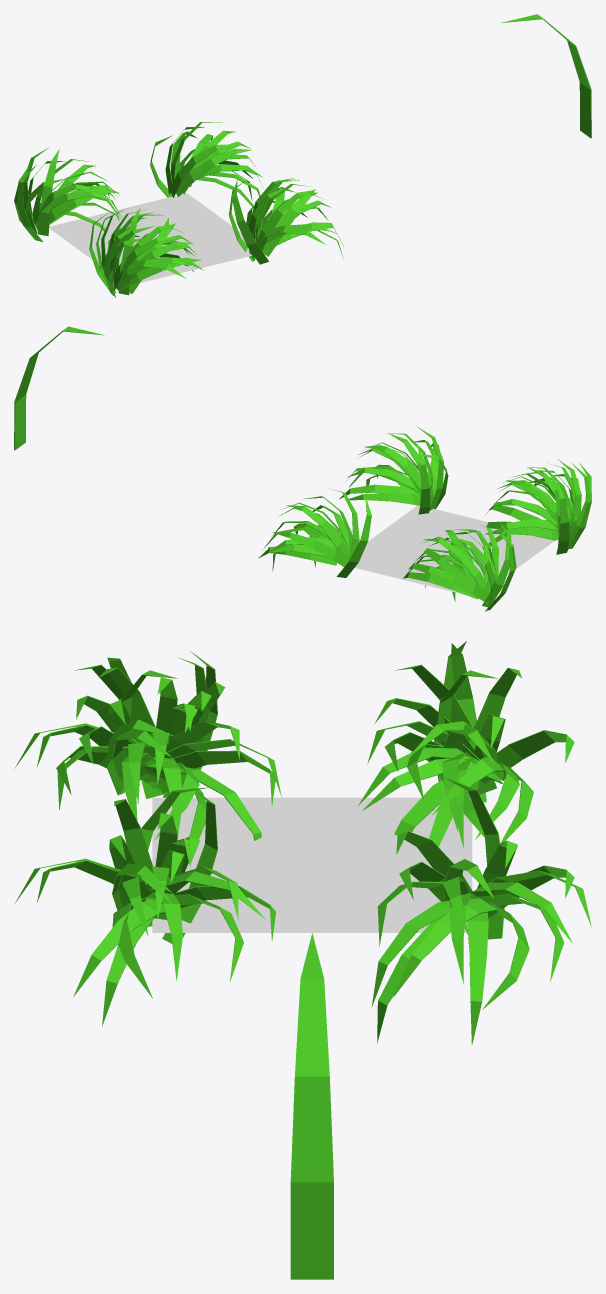
The model's file is Tenticle.fbx.
The picture shows the model from 3 angles, top to bottom: view 1: azimuth 30°, elevation 25°; view 2: azimuth 150°, elevation 25°; view 3: azimuth 270°, elevation 25°; orthographic projection. The views are drawn at different scales.
Visible parts, largest first — view 1: Plane, Cube, Plane|Cube|Dupli|31.0.0.0.0.0.0.0.0.0, Plane|Cube|Dupli|15.0.0.0.0.0.0.0.0.0, Plane|Cube|Dupli|88.0.0.0.0.0.0.0.0.0, Plane|Cube|Dupli|71.0.0.0.0.0.0.0.0.0, Plane|Cube|Dupli|17.0.0.0.0.0.0.0.0.0, Plane|Cube|Dupli|32.0.0.0.0.0.0.0.0.0, Plane|Cube|Dupli|24.0.0.0.0.0.0.0.0.0, Plane|Cube|Dupli|53.0.0.0.0.0.0.0.0.0, Plane|Cube|Dupli|7.0.0.0.0.0.0.0.0.0, Plane|Cube|Dupli|61.0.0.0.0.0.0.0.0.0 (+4 smaller); view 2: Plane, Cube, Plane|Cube|Dupli|82.0.0.0.0.0.0.0.0.0, Plane|Cube|Dupli|18.0.0.0.0.0.0.0.0.0, Plane|Cube|Dupli|5.0.0.0.0.0.0.0.0.0, Plane|Cube|Dupli|89.0.0.0.0.0.0.0.0.0, Plane|Cube|Dupli|90.0.0.0.0.0.0.0.0.0, Plane|Cube|Dupli|21.0.0.0.0.0.0.0.0.0, Plane|Cube|Dupli|74.0.0.0.0.0.0.0.0.0, Plane|Cube|Dupli|65.0.0.0.0.0.0.0.0.0, Plane|Cube|Dupli|26.0.0.0.0.0.0.0.0.0, Plane|Cube|Dupli|42.0.0.0.0.0.0.0.0.0 (+13 smaller); view 3: Plane, Cube, Plane|Cube|Dupli|56.0.0.0.0.0.0.0.0.0, Plane|Cube|Dupli|57.0.0.0.0.0.0.0.0.0, Plane|Cube|Dupli|14.0.0.0.0.0.0.0.0.0, Plane|Cube|Dupli|82.0.0.0.0.0.0.0.0.0, Plane|Cube|Dupli|78.0.0.0.0.0.0.0.0.0, Plane|Cube|Dupli|5.0.0.0.0.0.0.0.0.0, Plane|Cube|Dupli|26.0.0.0.0.0.0.0.0.0, Plane|Cube|Dupli|52.0.0.0.0.0.0.0.0.0, Plane|Cube|Dupli|25.0.0.0.0.0.0.0.0.0, Plane|Cube|Dupli|70.0.0.0.0.0.0.0.0.0 (+27 smaller).
Boxes of the visible parts, x1=… form: Plane: x1=49, y1=193, x2=251, y2=282; Cube: x1=500, y1=14, x2=591, y2=138; Plane|Cube|Dupli|31.0.0.0.0.0.0.0.0.0: x1=232, y1=180, x2=269, y2=264; Plane|Cube|Dupli|15.0.0.0.0.0.0.0.0.0: x1=176, y1=148, x2=251, y2=196; Plane|Cube|Dupli|88.0.0.0.0.0.0.0.0.0: x1=38, y1=149, x2=59, y2=236; Plane|Cube|Dupli|71.0.0.0.0.0.0.0.0.0: x1=170, y1=144, x2=236, y2=197; Plane|Cube|Dupli|17.0.0.0.0.0.0.0.0.0: x1=262, y1=189, x2=315, y2=256; Plane|Cube|Dupli|32.0.0.0.0.0.0.0.0.0: x1=256, y1=189, x2=315, y2=250; Plane|Cube|Dupli|24.0.0.0.0.0.0.0.0.0: x1=118, y1=208, x2=139, y2=295; Plane|Cube|Dupli|53.0.0.0.0.0.0.0.0.0: x1=35, y1=190, x2=116, y2=230; Plane|Cube|Dupli|7.0.0.0.0.0.0.0.0.0: x1=113, y1=237, x2=177, y2=290; Plane|Cube|Dupli|61.0.0.0.0.0.0.0.0.0: x1=17, y1=163, x2=42, y2=241; Plane: x1=338, y1=505, x2=554, y2=594; Cube: x1=14, y1=326, x2=104, y2=450; Plane|Cube|Dupli|82.0.0.0.0.0.0.0.0.0: x1=411, y1=566, x2=488, y2=603; Plane|Cube|Dupli|18.0.0.0.0.0.0.0.0.0: x1=272, y1=532, x2=349, y2=566; Plane|Cube|Dupli|5.0.0.0.0.0.0.0.0.0: x1=337, y1=496, x2=371, y2=577; Plane|Cube|Dupli|89.0.0.0.0.0.0.0.0.0: x1=345, y1=492, x2=420, y2=505; Plane|Cube|Dupli|90.0.0.0.0.0.0.0.0.0: x1=556, y1=478, x2=569, y2=554; Plane|Cube|Dupli|21.0.0.0.0.0.0.0.0.0: x1=285, y1=505, x2=349, y2=557; Plane|Cube|Dupli|74.0.0.0.0.0.0.0.0.0: x1=423, y1=538, x2=486, y2=589; Plane|Cube|Dupli|65.0.0.0.0.0.0.0.0.0: x1=482, y1=522, x2=511, y2=607; Plane|Cube|Dupli|26.0.0.0.0.0.0.0.0.0: x1=417, y1=444, x2=430, y2=514; Plane|Cube|Dupli|42.0.0.0.0.0.0.0.0.0: x1=403, y1=572, x2=478, y2=599; Plane: x1=152, y1=797, x2=472, y2=932; Cube: x1=290, y1=933, x2=333, y2=1279; Plane|Cube|Dupli|56.0.0.0.0.0.0.0.0.0: x1=467, y1=902, x2=488, y2=1044; Plane|Cube|Dupli|57.0.0.0.0.0.0.0.0.0: x1=371, y1=898, x2=484, y2=1007; Plane|Cube|Dupli|14.0.0.0.0.0.0.0.0.0: x1=393, y1=898, x2=497, y2=997; Plane|Cube|Dupli|82.0.0.0.0.0.0.0.0.0: x1=480, y1=730, x2=574, y2=783; Plane|Cube|Dupli|78.0.0.0.0.0.0.0.0.0: x1=73, y1=899, x2=164, y2=997; Plane|Cube|Dupli|5.0.0.0.0.0.0.0.0.0: x1=444, y1=777, x2=504, y2=939; Plane|Cube|Dupli|26.0.0.0.0.0.0.0.0.0: x1=162, y1=786, x2=217, y2=943; Plane|Cube|Dupli|52.0.0.0.0.0.0.0.0.0: x1=114, y1=799, x2=156, y2=926; Plane|Cube|Dupli|25.0.0.0.0.0.0.0.0.0: x1=153, y1=750, x2=275, y2=805; Plane|Cube|Dupli|70.0.0.0.0.0.0.0.0.0: x1=377, y1=916, x2=443, y2=1043.
Bounding box in the file's own units: 5644 × 1684 × 2666.
